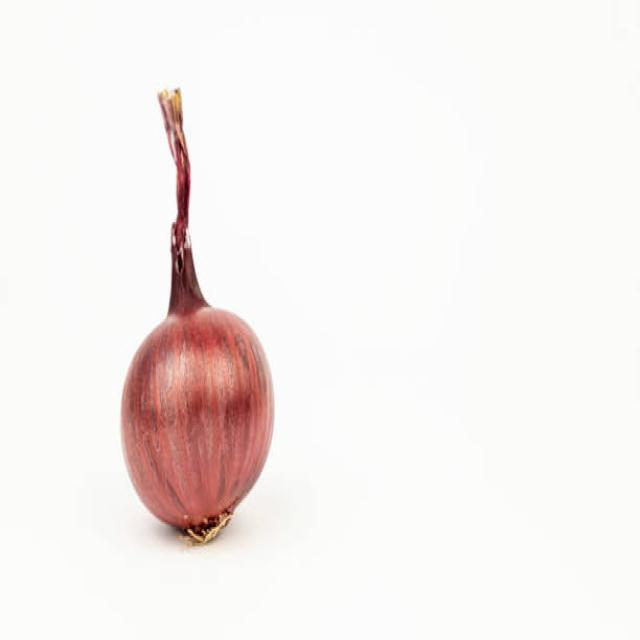onion: (121, 298, 279, 542)
